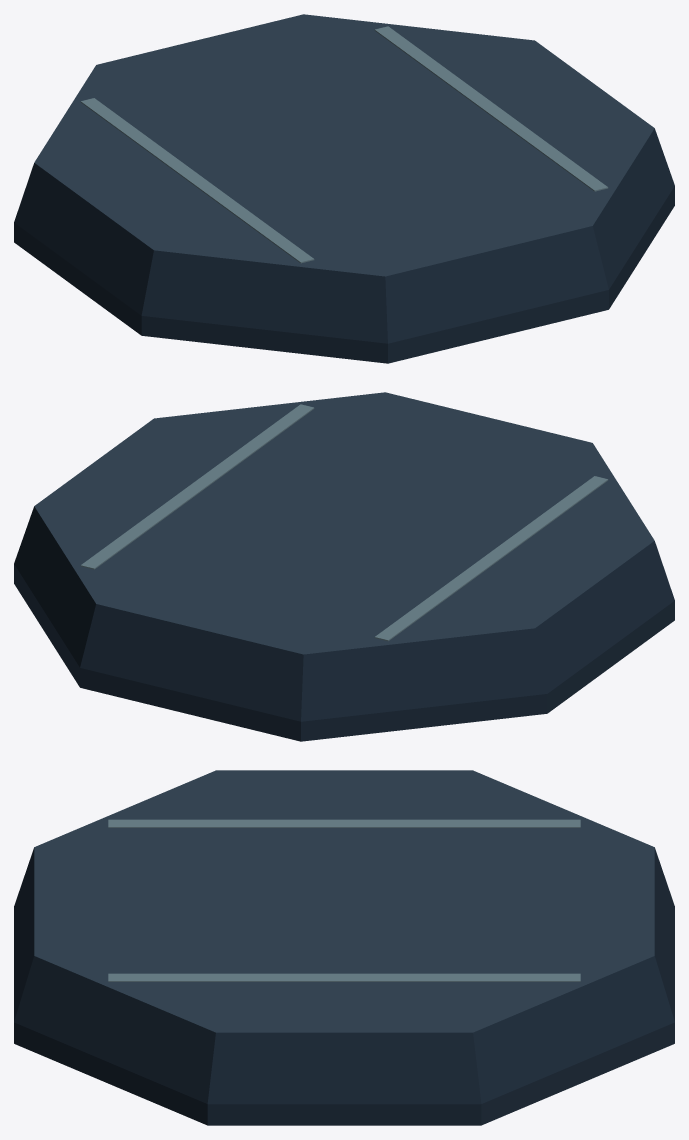
Rendered from tile_path.glb.
3 views of the same model, one above another, from view 1: azimuth 30°, elevation 25°; view 2: azimuth 150°, elevation 25°; view 3: azimuth 270°, elevation 25° (orthographic). The views are drawn at different scales.
Visible parts, largest first — view 1: tile_path; view 2: tile_path; view 3: tile_path.
Part boxes in pixels (box(x1,y1,x2,y2)): tile_path: box(14, 14, 674, 363); tile_path: box(14, 392, 674, 741); tile_path: box(14, 770, 674, 1125).
Bounding box in the file's own units: 0.98 × 0.14 × 0.98.
